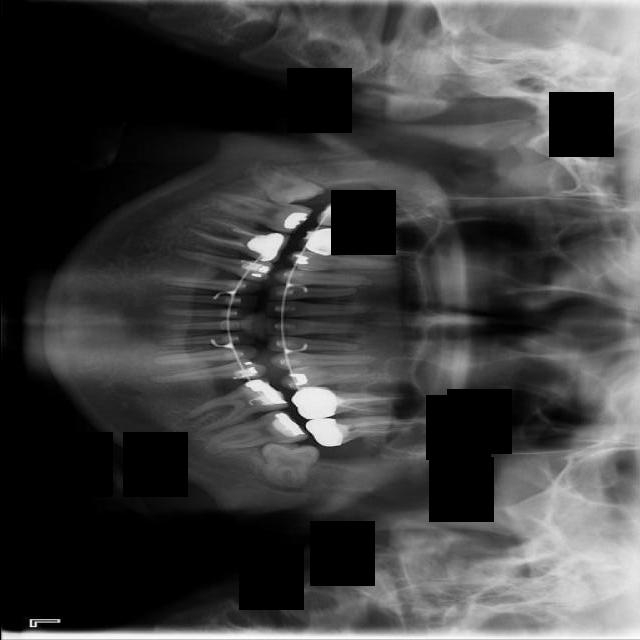52: (229, 366, 292, 429), (255, 399, 311, 456), (298, 217, 347, 264), (239, 222, 290, 267), (261, 198, 313, 238), (290, 384, 340, 422), (305, 418, 343, 447)
73: (333, 403, 425, 445), (184, 208, 259, 256), (334, 231, 427, 260), (327, 389, 409, 417), (21, 620, 24, 628)
BioHorizons Implant: (304, 412, 425, 448)
Biomet 3i Implant: (254, 436, 321, 496)
Blue Sky Bio Implant: (200, 406, 308, 456)
Caries: (313, 200, 430, 235)
Implant: (212, 190, 313, 237)
Keystone Dental Implant: (241, 150, 325, 223)
